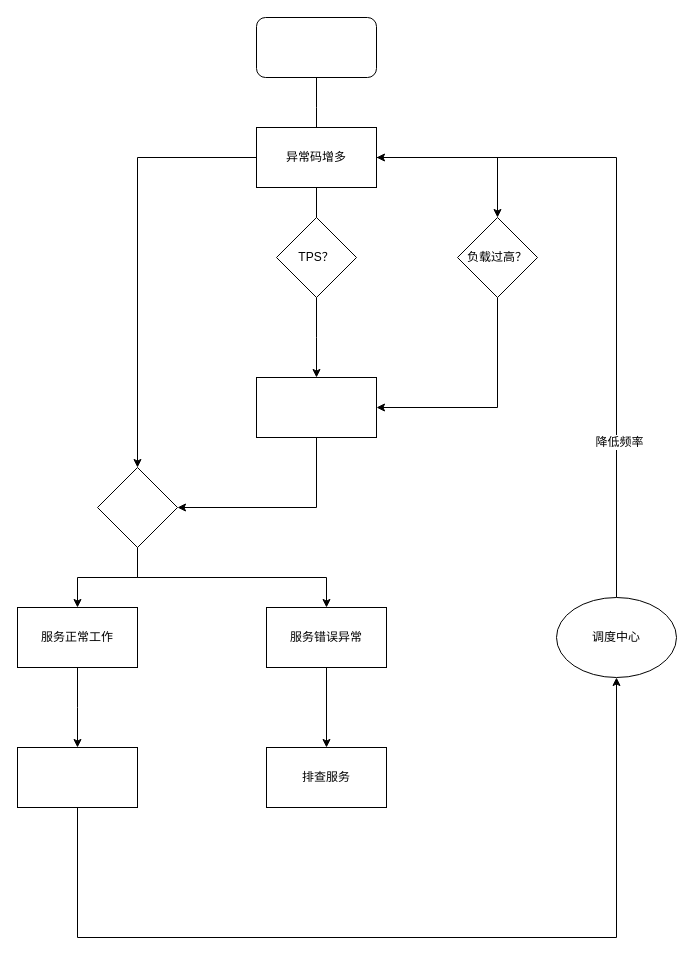
This 694x963 diagram has some shape labels left out. The centre of each missing label's shape, as x and y in pixels:
压力问题: the point at 316,407
开始: the point at 316,47
服务异常: the point at 137,507
限流: the point at 77,777
